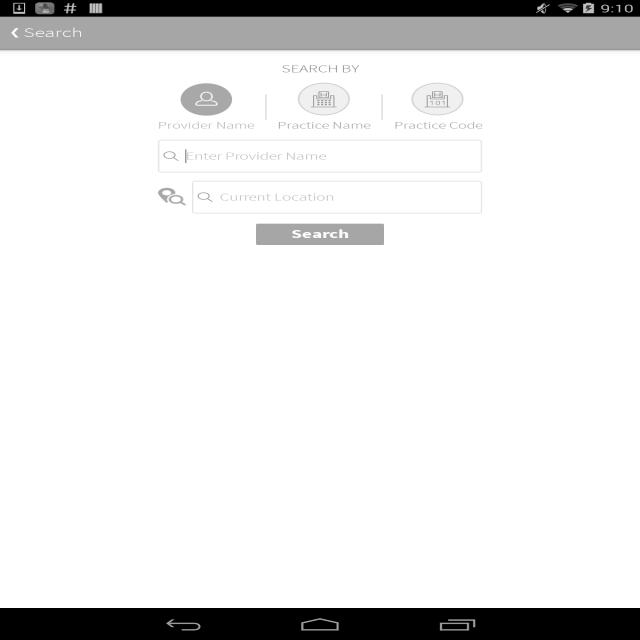EditText: (158, 140, 482, 172)
ImageButton: (158, 188, 188, 206)
ImageView: (163, 151, 179, 161), (197, 192, 213, 202), (265, 82, 267, 132), (381, 82, 383, 132)
RadioButton: (158, 82, 254, 132), (277, 82, 371, 132), (394, 82, 482, 132)
TextView: (192, 180, 482, 213), (158, 62, 482, 76), (256, 224, 384, 245), (11, 24, 83, 41)
